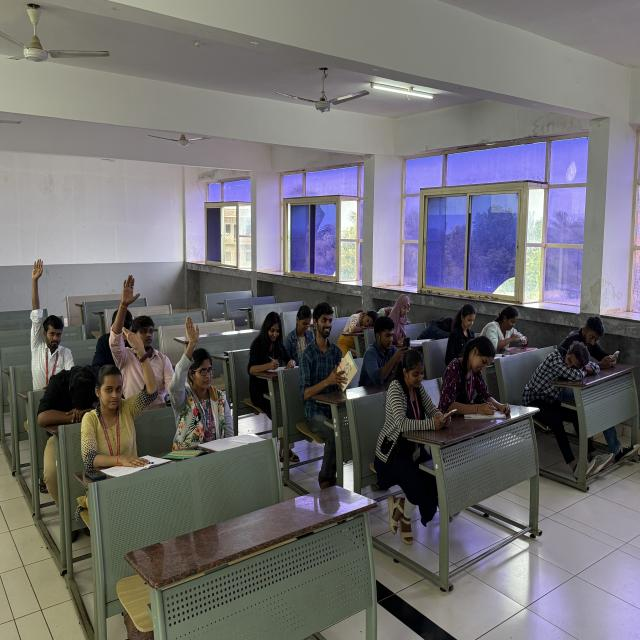Hand Rising: (162, 301, 236, 456), (90, 322, 160, 475), (109, 268, 174, 394), (26, 246, 78, 392)
Reading: (304, 300, 358, 408), (480, 305, 532, 360), (385, 293, 430, 349), (448, 302, 489, 350)
Sleeping: (34, 351, 102, 453), (523, 338, 600, 417), (338, 307, 380, 342)
Using Phone: (376, 347, 463, 458), (564, 312, 626, 368)
Writing: (437, 330, 517, 426), (242, 307, 300, 400)
